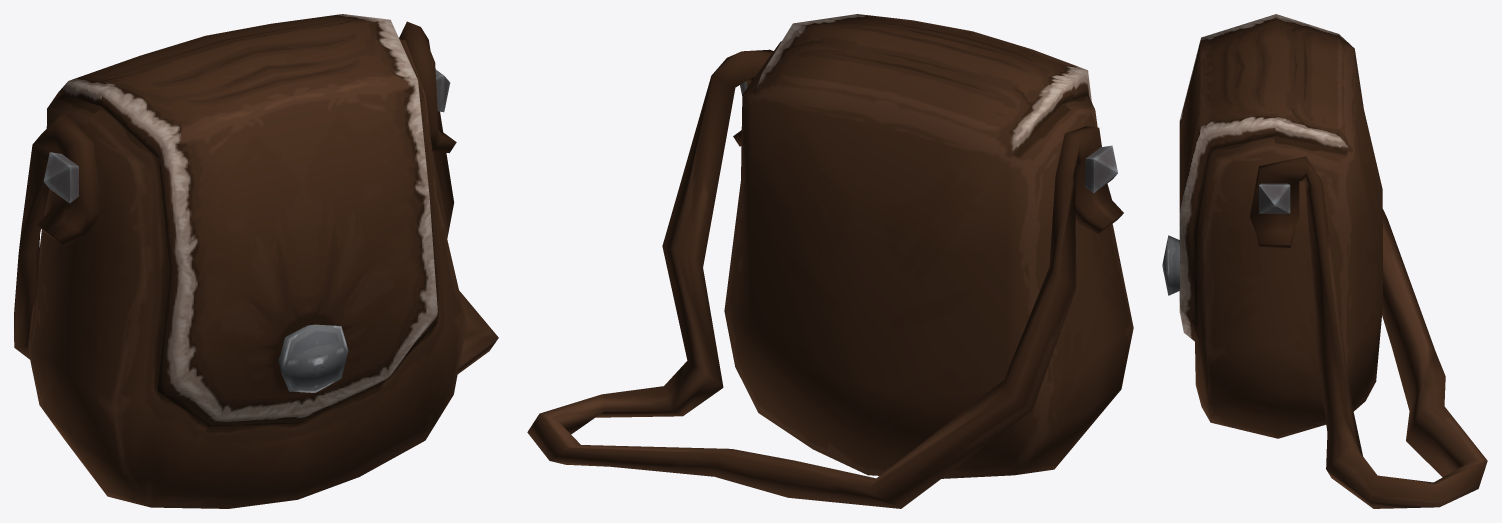
Rendered from SM_PROP_bag_interior_02.fbx.
3 renders of one model, left to right at view 1: azimuth 30°, elevation 25°; view 2: azimuth 150°, elevation 25°; view 3: azimuth 270°, elevation 25°, orthographic. The views are drawn at different scales.
Visible parts, largest first — view 1: SM_PROP_bag_interior_02; view 2: SM_PROP_bag_interior_02; view 3: SM_PROP_bag_interior_02.
Boxes of the visible parts, x1=… form: SM_PROP_bag_interior_02: x1=14, y1=14, x2=498, y2=508; SM_PROP_bag_interior_02: x1=527, y1=14, x2=1133, y2=508; SM_PROP_bag_interior_02: x1=1162, y1=14, x2=1487, y2=508.
Bounding box in the file's own units: 30.72 × 24.5 × 21.1.
